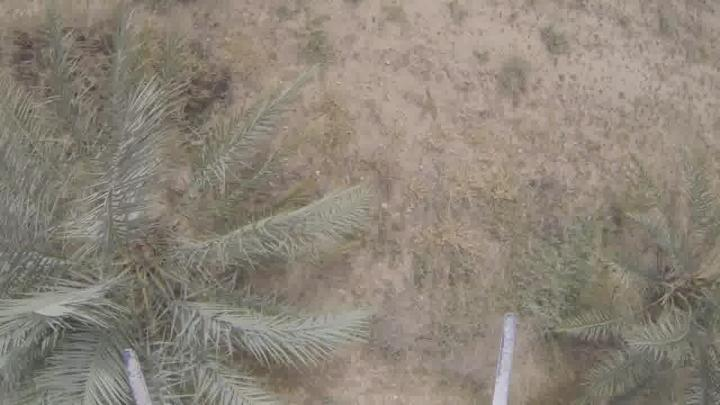Date-Palm-Crown: (0, 123, 274, 405), (613, 214, 720, 382)
